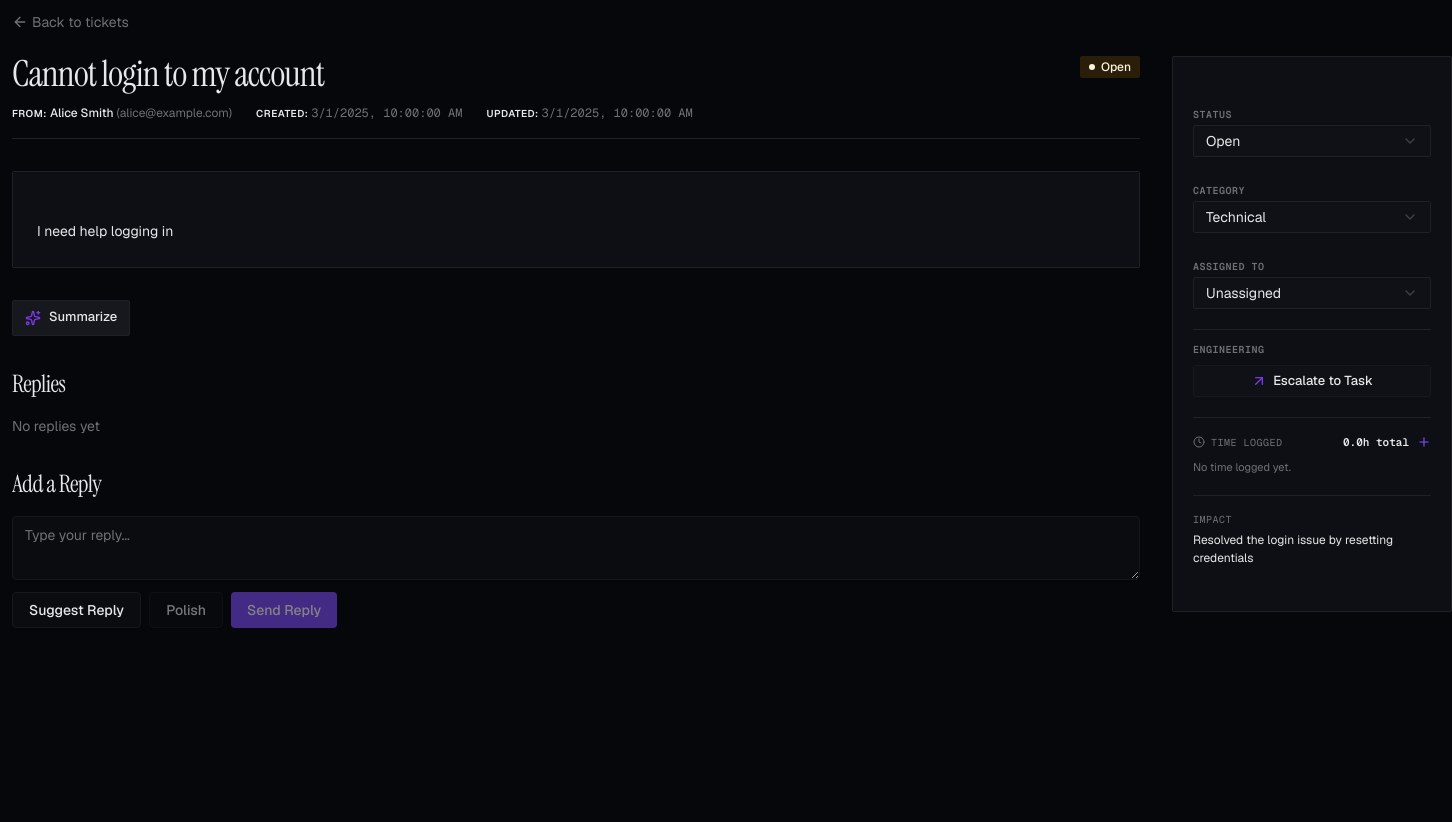
Test: TicketDetailPage › should display current category and all category options in dropdown
Expected: the heading "Cannot login to my account" is shown, [12, 50, 324, 97]
Click the dropdown labelled "Technical". click: click(1312, 217)
box: [1193, 201, 1431, 233]
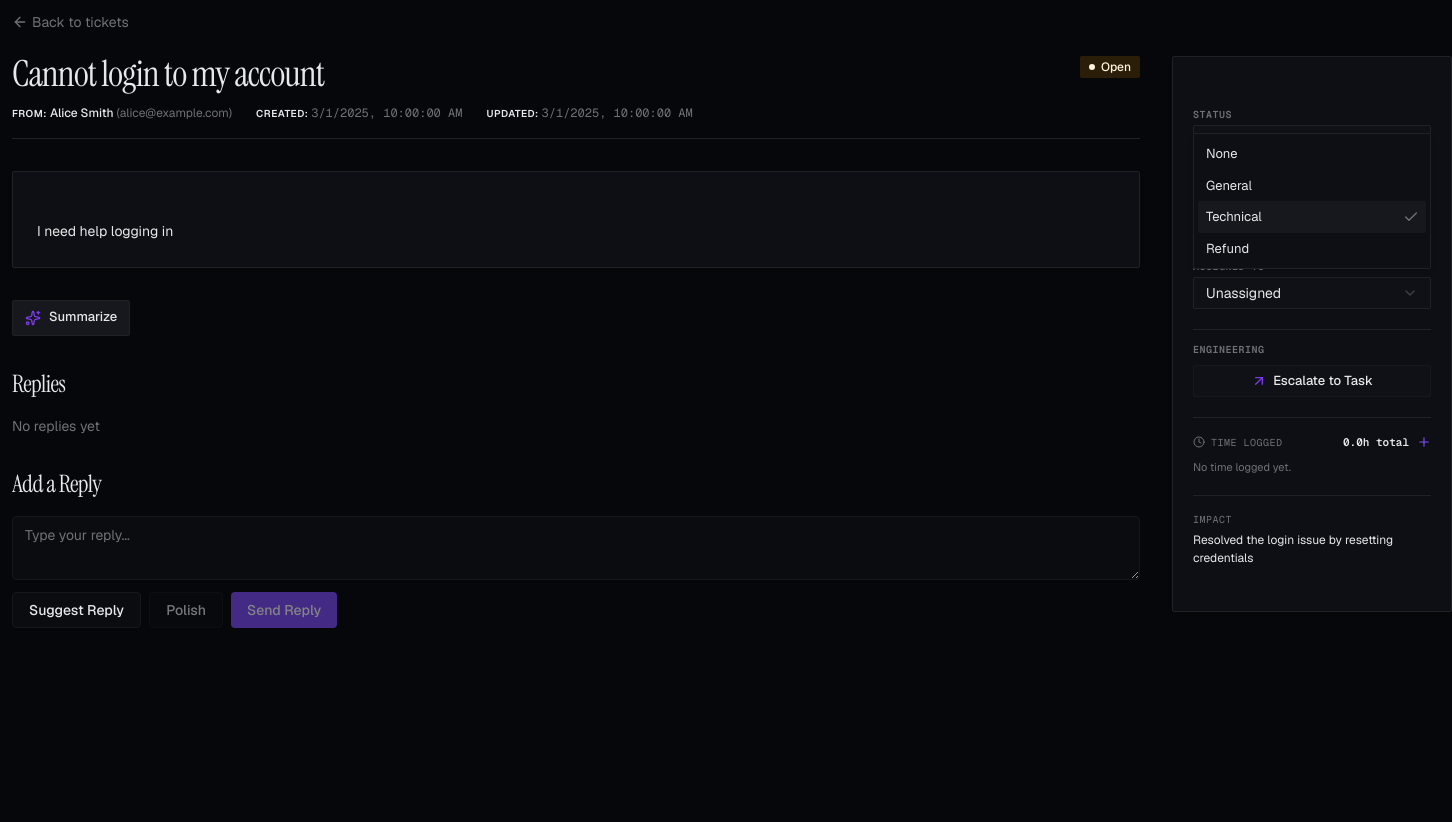
Now the option "None" is shown, box [1206, 145, 1238, 162]
Now the option "General" is shown, box [1206, 176, 1252, 194]
Now the option "Technical" is shown, box [1198, 201, 1426, 232]
